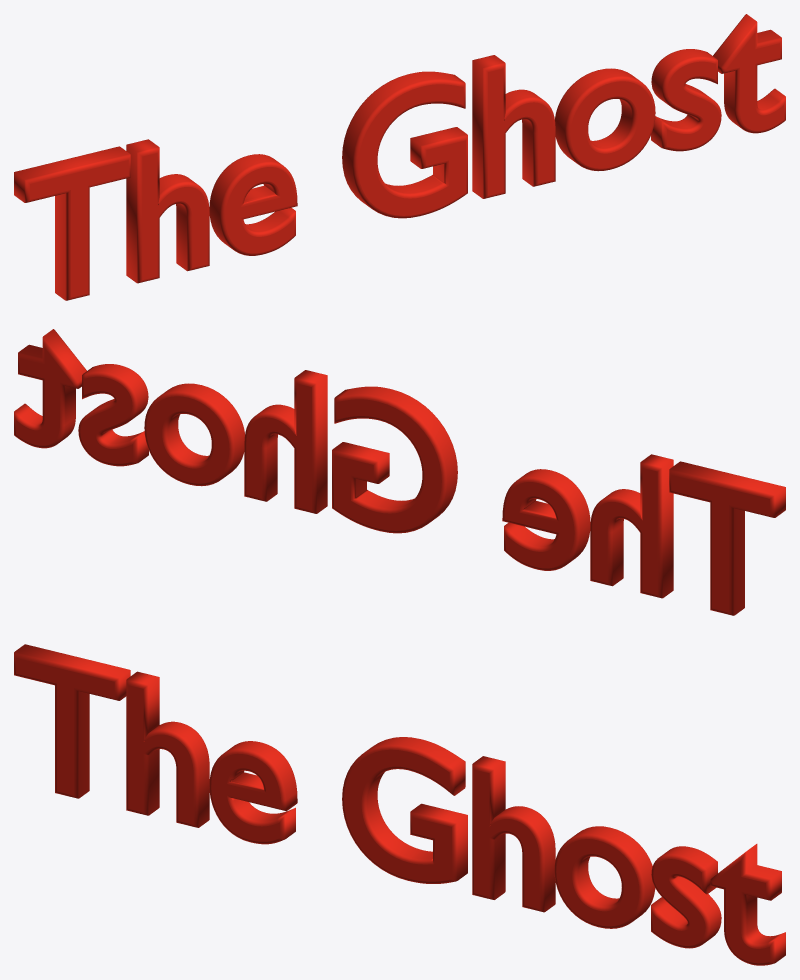
Rendered from Ghost.fbx.
3 renders of one model, top to bottom at view 1: azimuth 30°, elevation 25°; view 2: azimuth 150°, elevation 25°; view 3: azimuth 330°, elevation 25°, orthographic.
Visible parts, largest first — view 1: Text; view 2: Text; view 3: Text.
Boxes of the visible parts, left/top/right/bottom form: Text: left=14, top=14, right=785, bottom=300; Text: left=14, top=329, right=785, bottom=615; Text: left=14, top=644, right=785, bottom=965.
Size of the model in its own units: 439 by 74 by 14.
